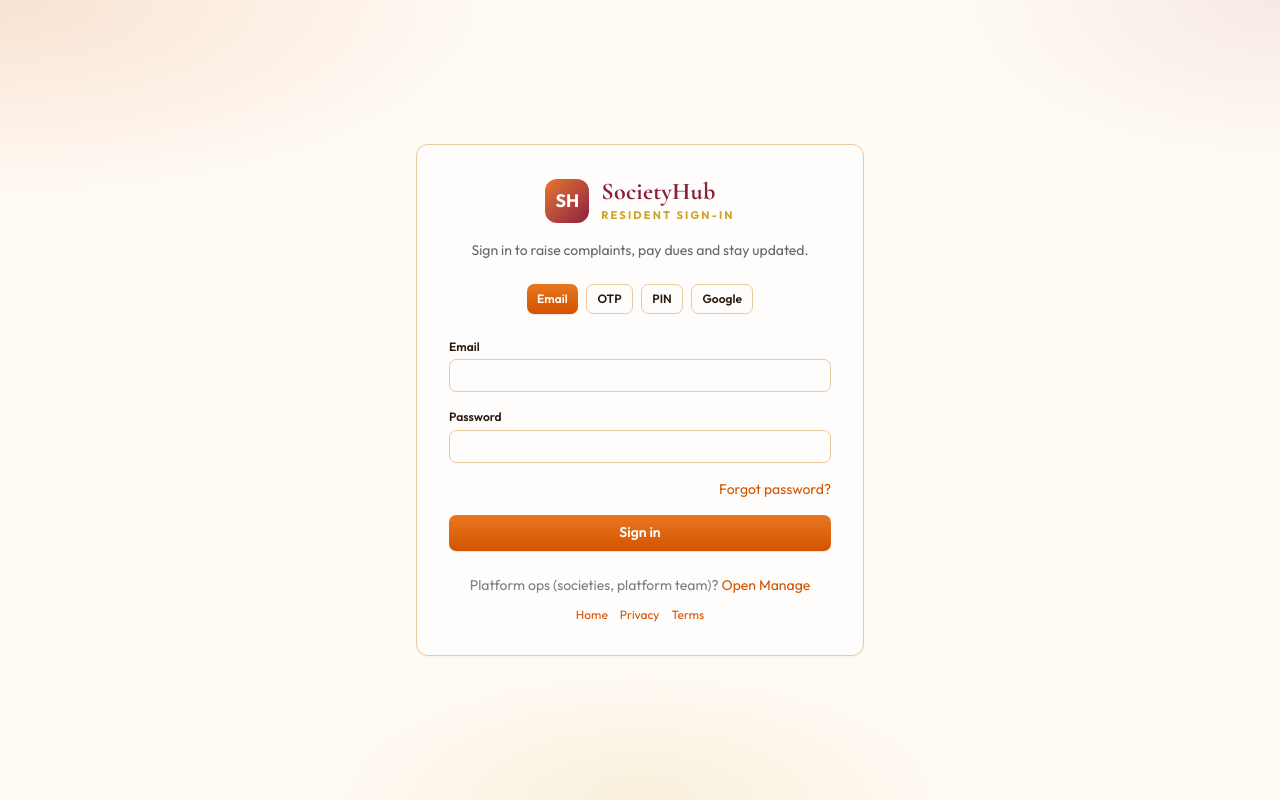
Test: Resident login › shows an error on a bad password login attempt
The image size is (1280, 800).
Type "nope@example.com" into the field with test id "login-email" at point(640, 376), box [449, 359, 831, 393]
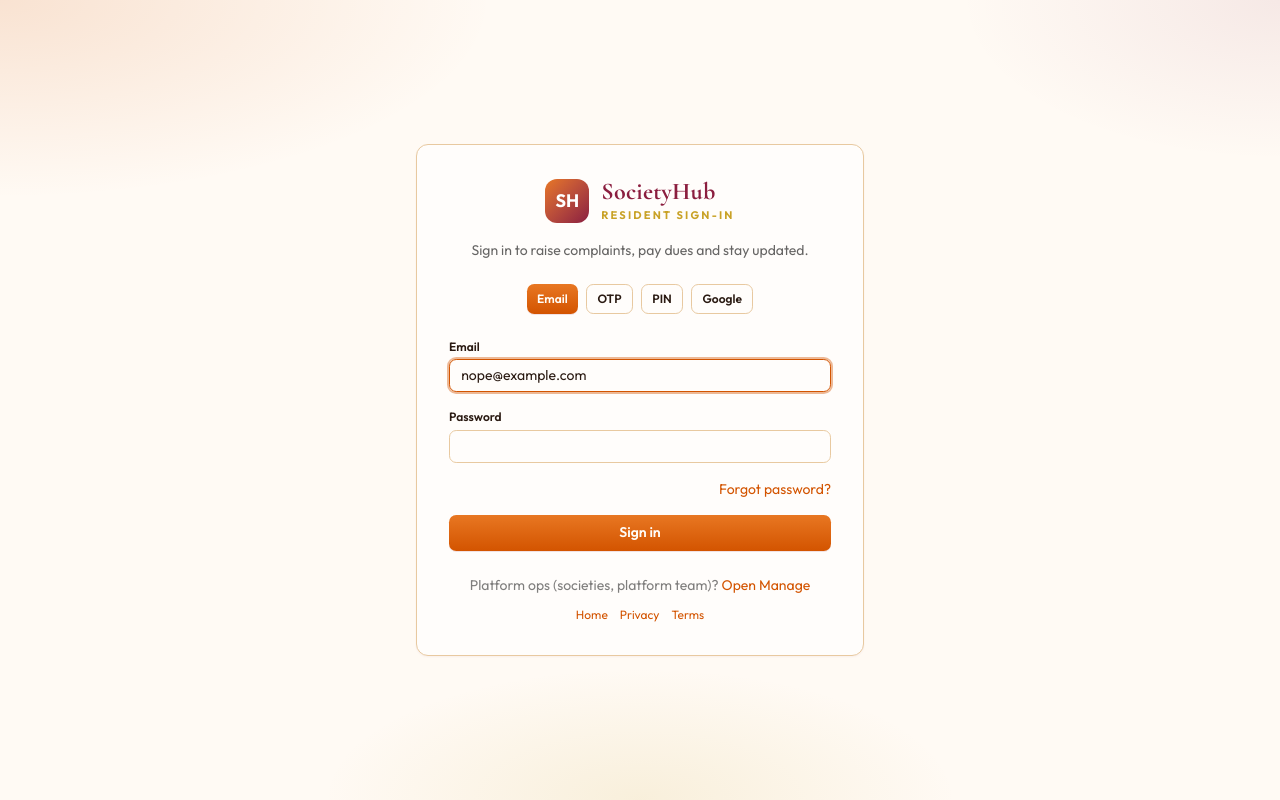
Type "wrongpass" into the password field with test id "login-password" at point(640, 447), box [449, 430, 831, 464]
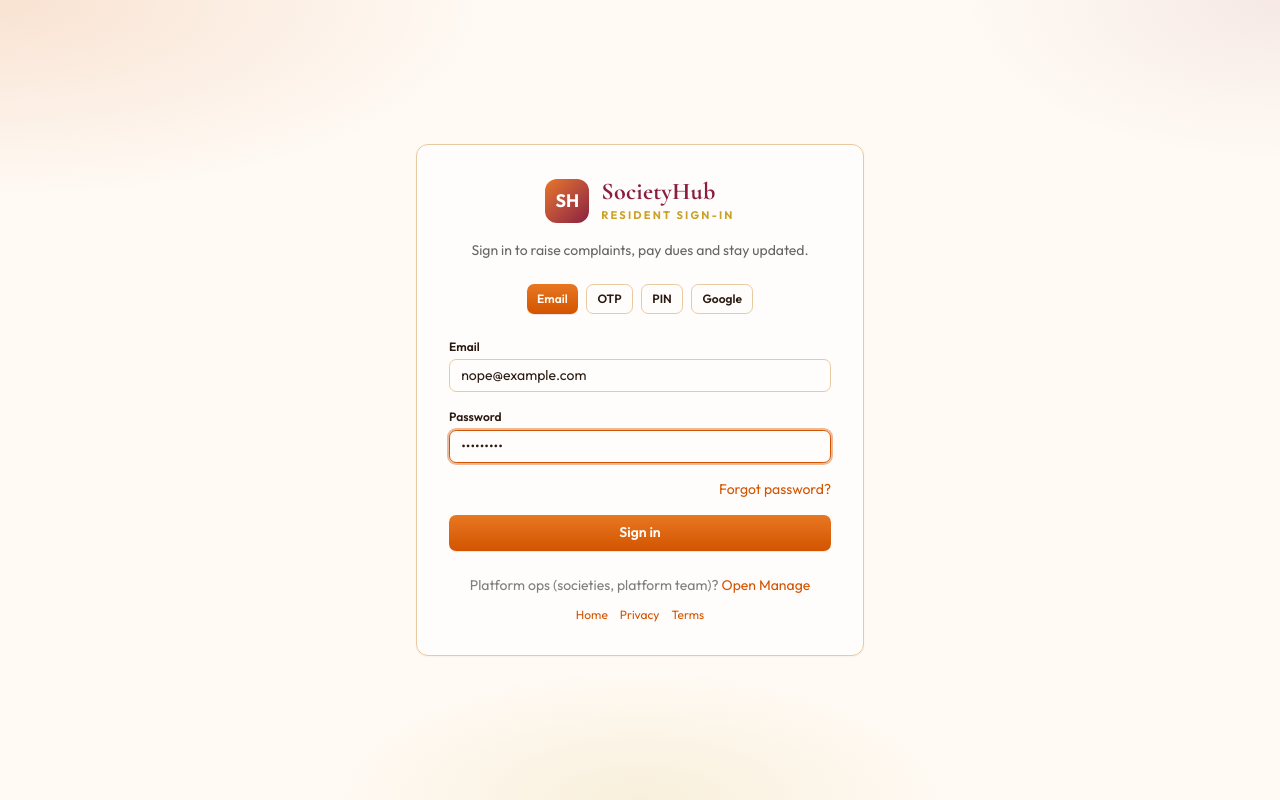
Click the button with test id "login-submit" at point(640, 533), box [449, 515, 831, 550]
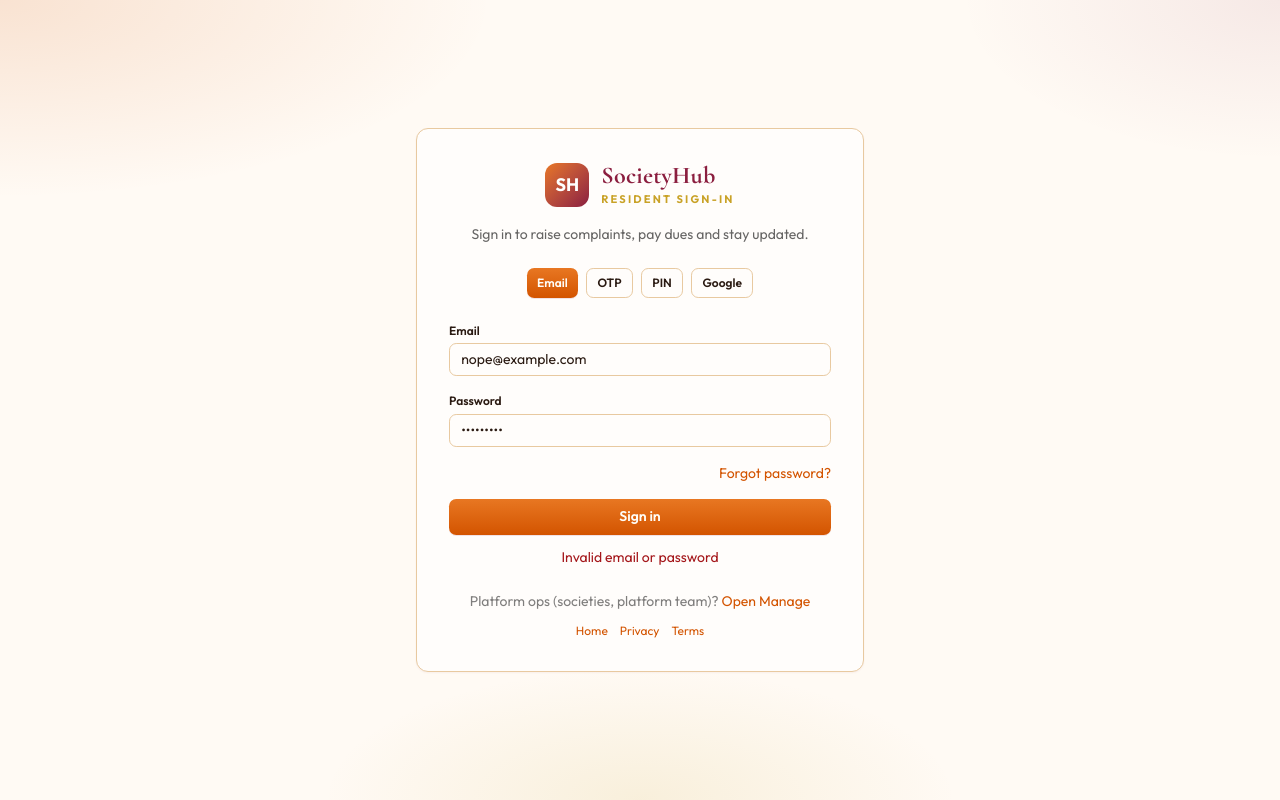
Expected: the text "Invalid email or password" is shown, [561, 548, 719, 566]
